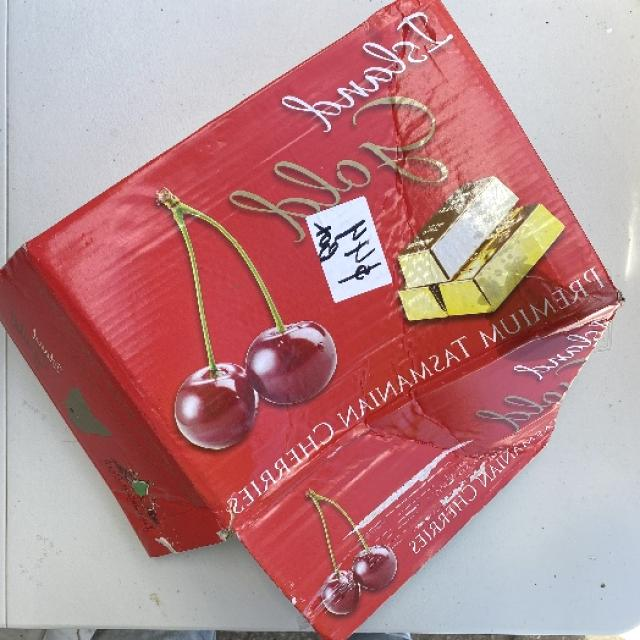inorganic: (1, 0, 620, 639)
kertas: (60, 15, 628, 606)
